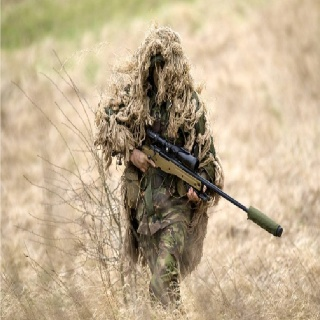rifle: (98, 106, 284, 238)
